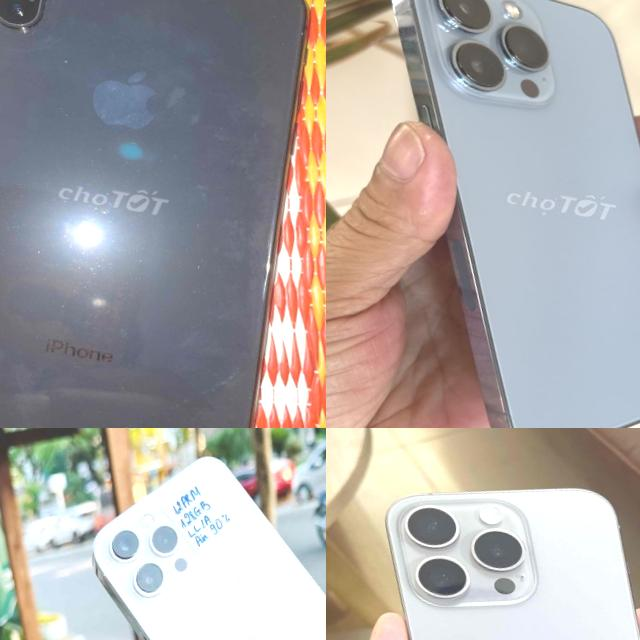gen_12_13: (326, 0, 640, 428), (92, 457, 326, 640)
gen_15: (326, 442, 640, 640)
gen_x_xs: (0, 0, 326, 428)
